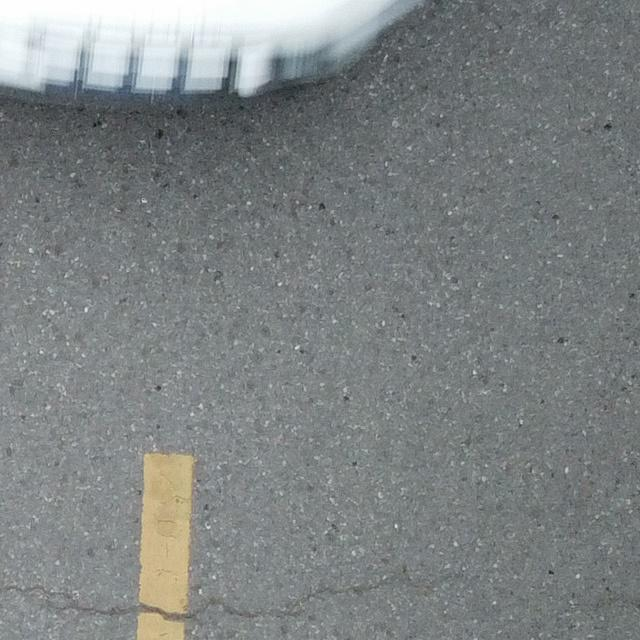TransverseCrack: (1, 572, 453, 624)
